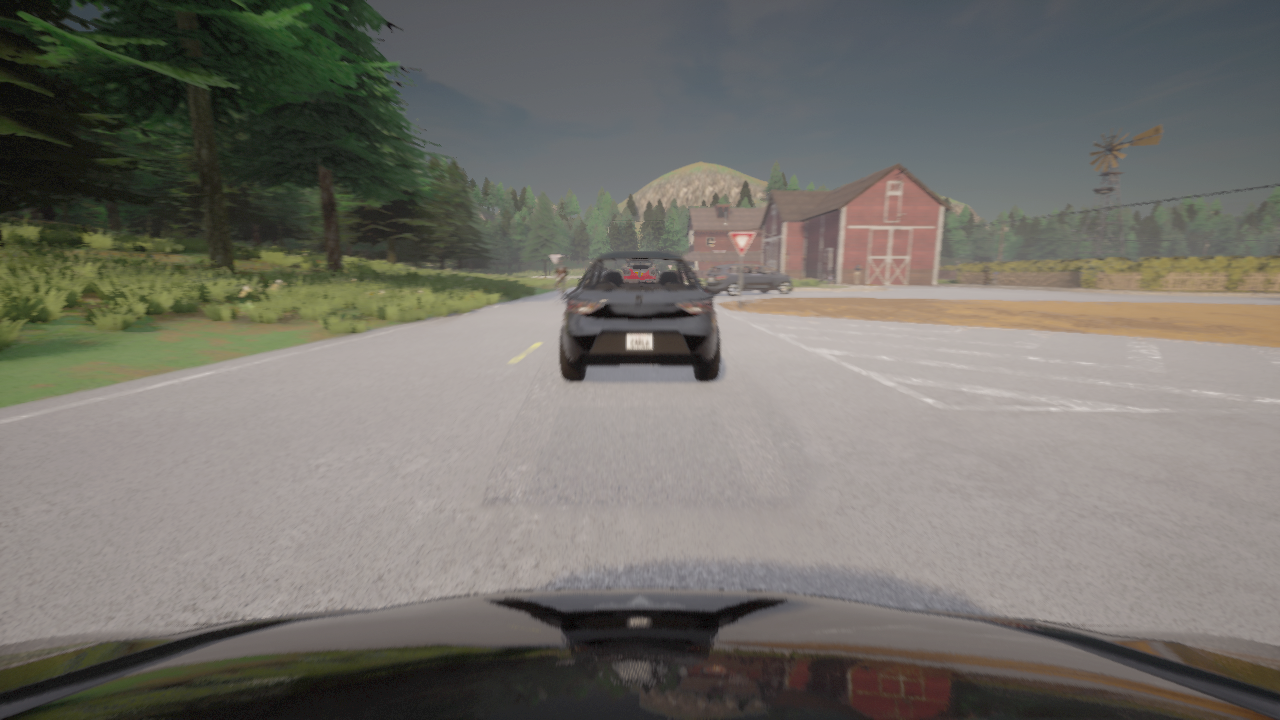cyclist: (0, 588, 1279, 719), (560, 252, 719, 380), (704, 263, 792, 296), (556, 281, 565, 304)
pedestrian: (853, 262, 861, 285), (982, 262, 990, 285), (992, 270, 997, 285), (829, 273, 833, 287)
